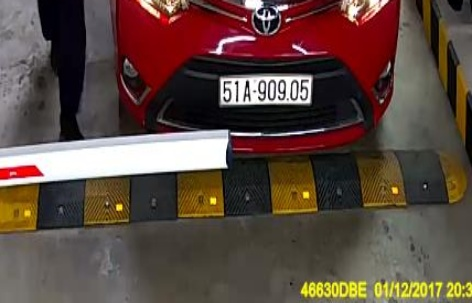plate: (216, 68, 314, 113)
